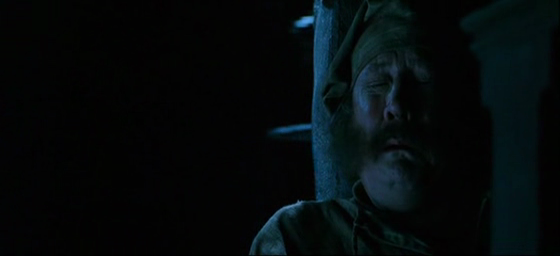cu: (1, 1, 560, 256)
face: (353, 37, 448, 186)
person: (248, 1, 492, 256)
